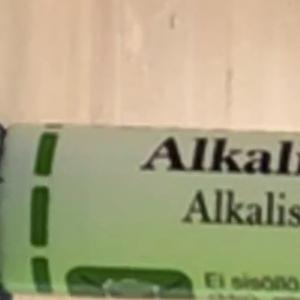ALK: (131, 127, 218, 182)
